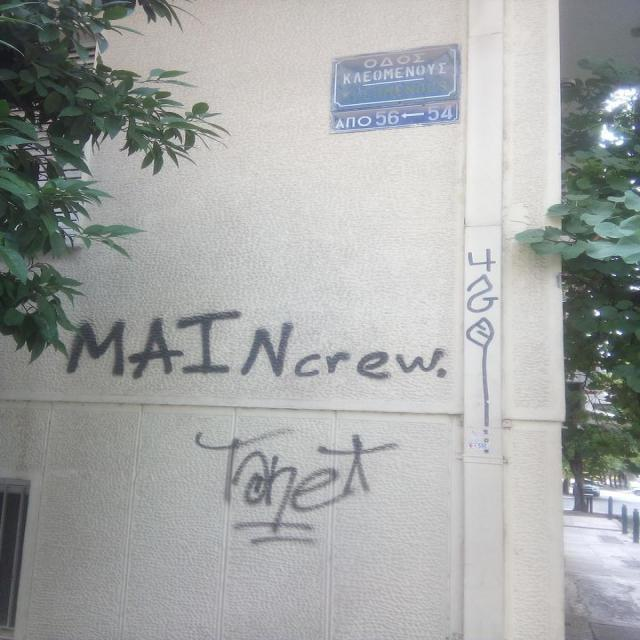nonspitting: (62, 310, 446, 382), (194, 425, 399, 550), (462, 246, 500, 350)
